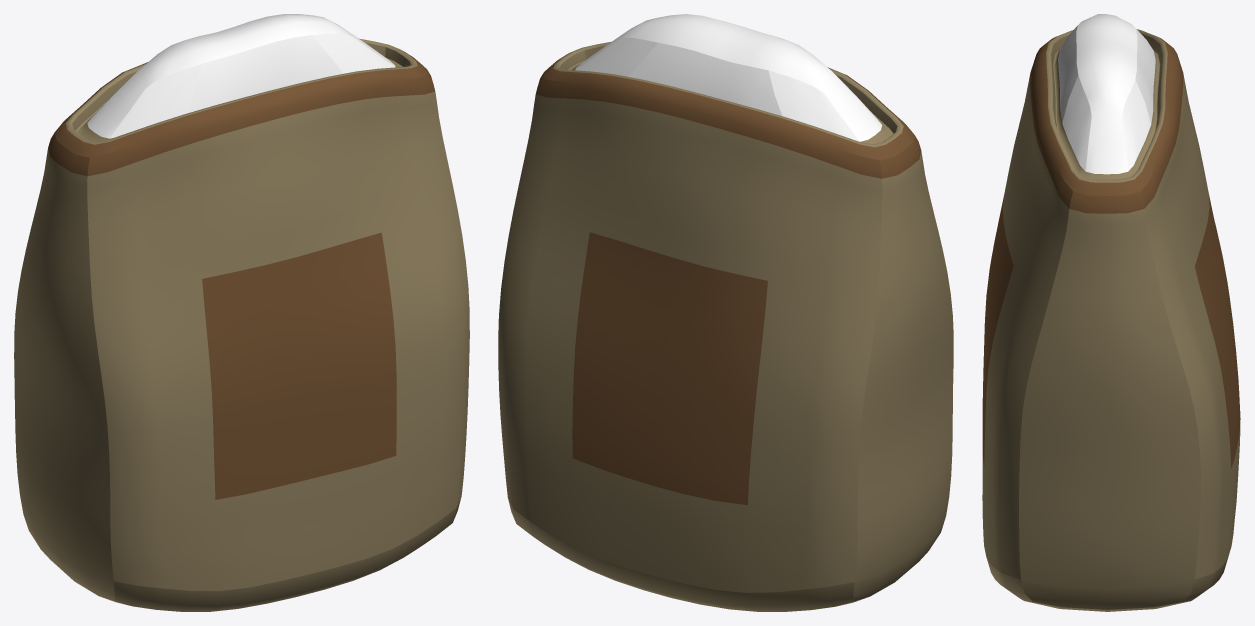
Rendered from Flour.glb.
The picture shows the model from 3 angles, left to right: view 1: azimuth 30°, elevation 25°; view 2: azimuth 150°, elevation 25°; view 3: azimuth 270°, elevation 25°; orthographic projection. The views are drawn at different scales.
Parts seen in each view (by area): view 1: Cube.018; view 2: Cube.018; view 3: Cube.018.
Boxes of the visible parts, x1,y1,x2,y2 form: Cube.018: [14, 14, 469, 611]; Cube.018: [498, 14, 953, 611]; Cube.018: [982, 14, 1240, 611].
Bounding box in the file's own units: 0.1042 × 0.1369 × 0.0615.
